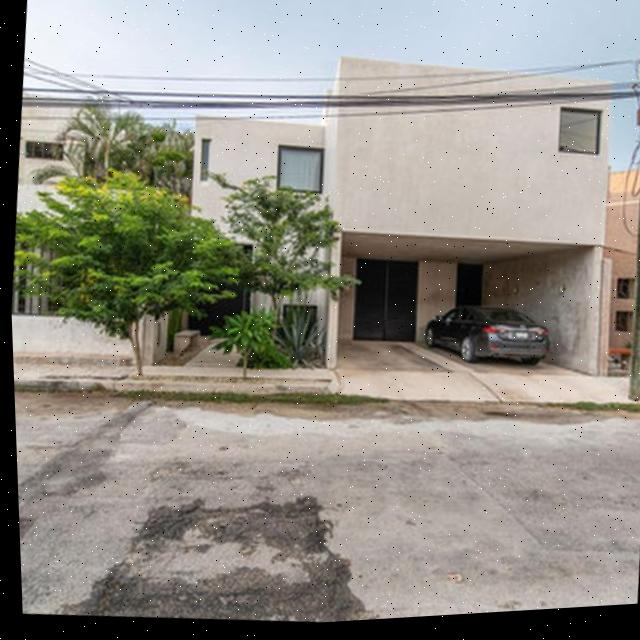building: (2, 8, 635, 409)
